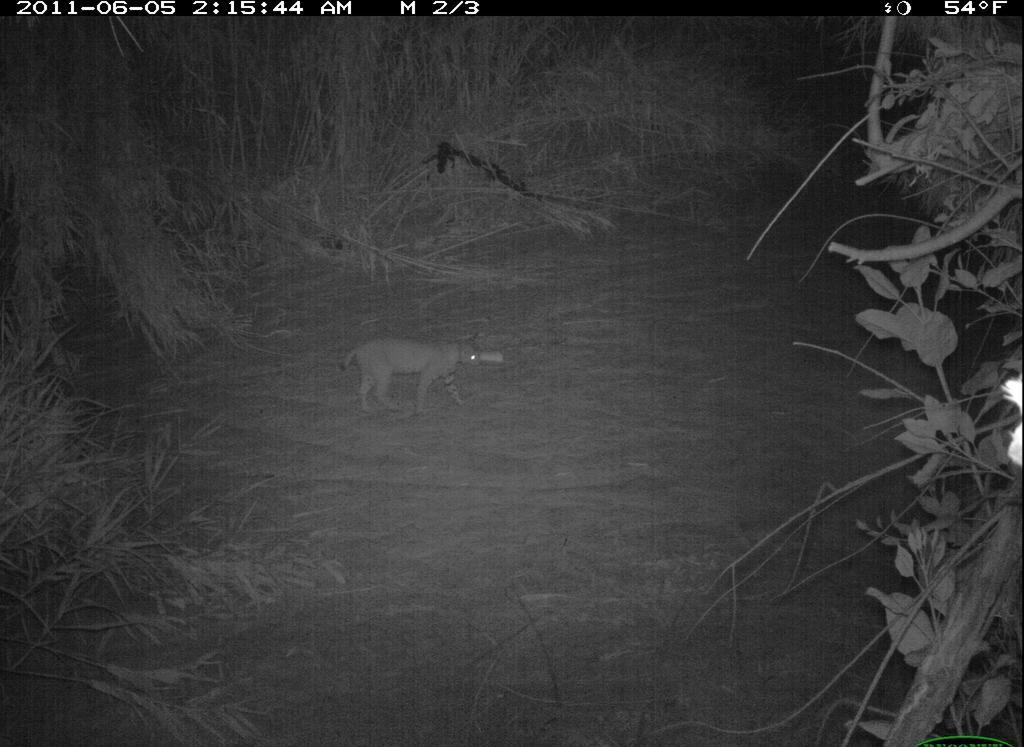bobcat: (335, 326, 489, 422)
